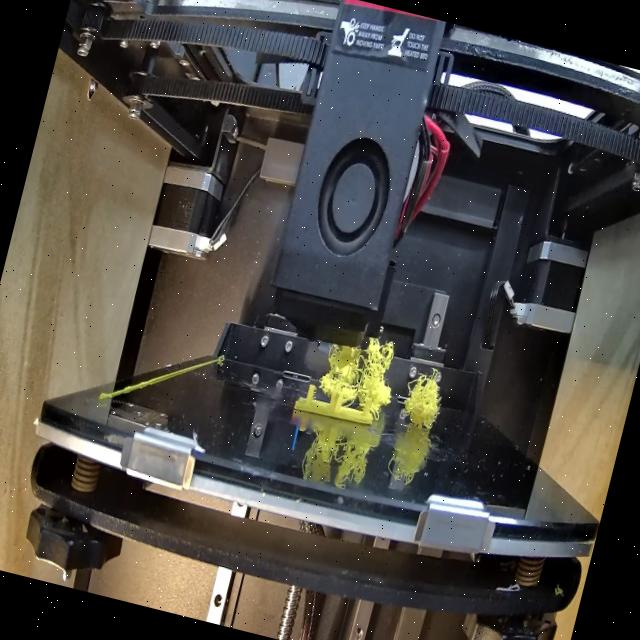spaghetti: (320, 326, 404, 414), (396, 360, 454, 442)
